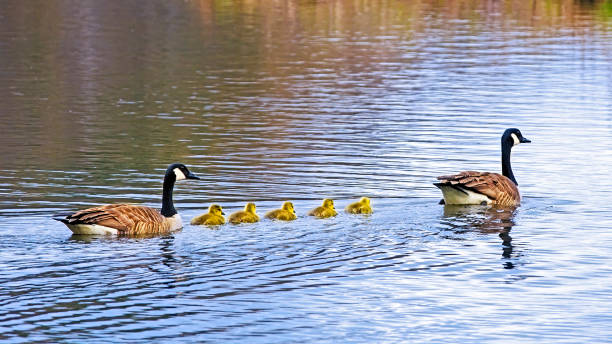goose: (47, 161, 202, 238), (429, 126, 532, 210)
